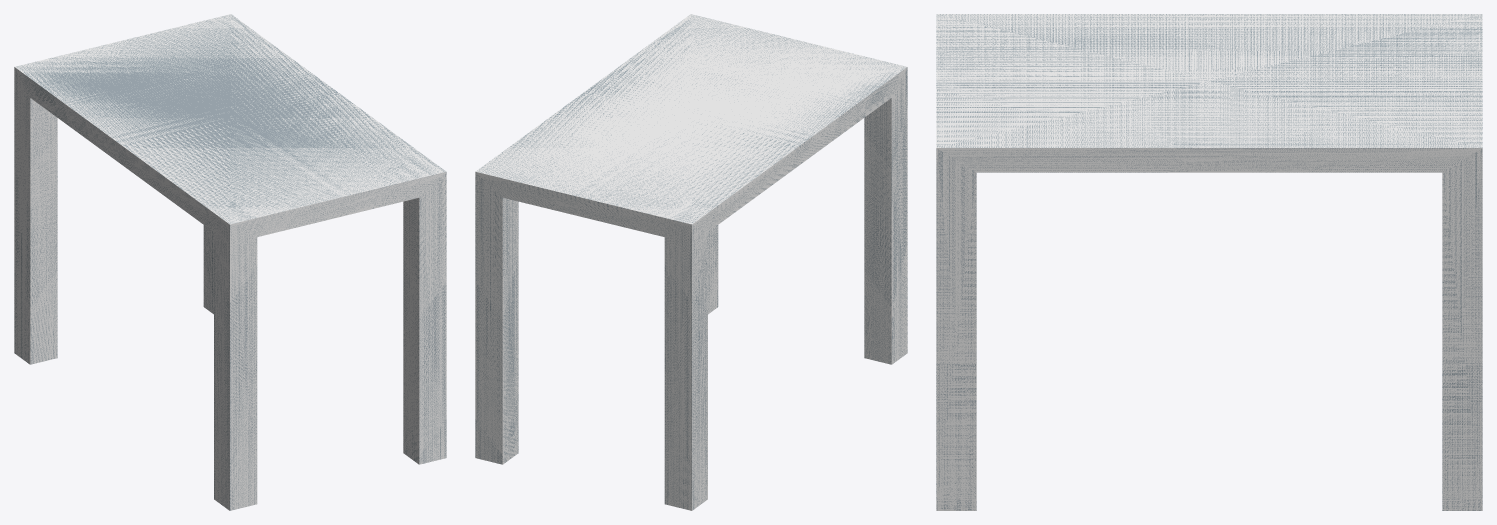
Rendered from table.fbx.
3 renders of one model, left to right at view 1: azimuth 30°, elevation 25°; view 2: azimuth 150°, elevation 25°; view 3: azimuth 270°, elevation 25°, orthographic. The views are drawn at different scales.
Visible parts, largest first — view 1: Model; view 2: Model; view 3: Model.
Boxes of the visible parts, bbox=[...] form: Model: bbox=[14, 14, 446, 510]; Model: bbox=[475, 14, 907, 510]; Model: bbox=[936, 14, 1482, 510].
Size of the model in its own units: 3691 by 4659 by 6355.
